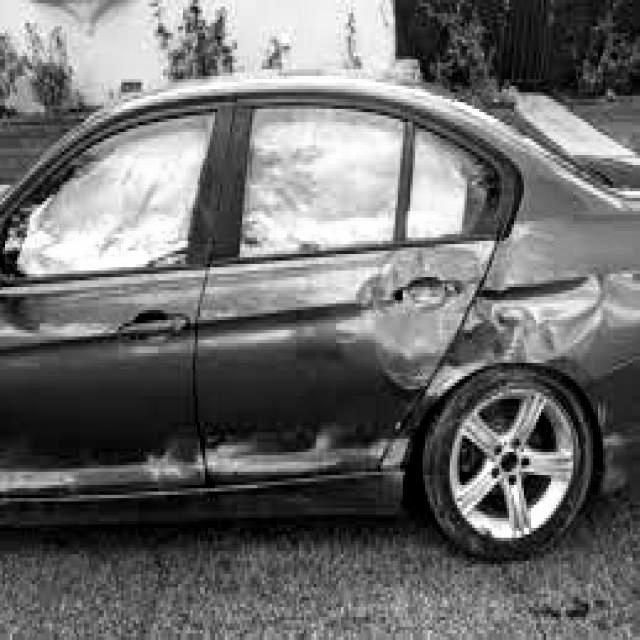Runningboard-Damage: (0, 455, 190, 514), (199, 438, 415, 488)
doorouter-dent: (354, 245, 489, 387)
quaterpanel-dent: (491, 255, 640, 392)
